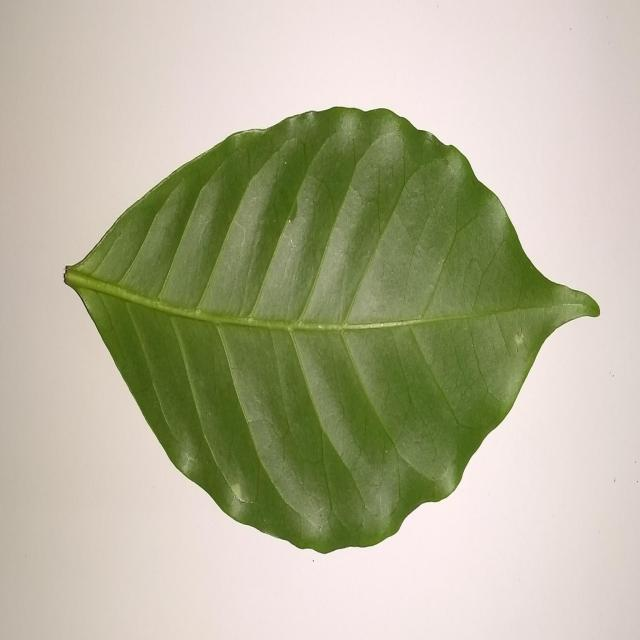nodisease: (64, 107, 600, 553)
